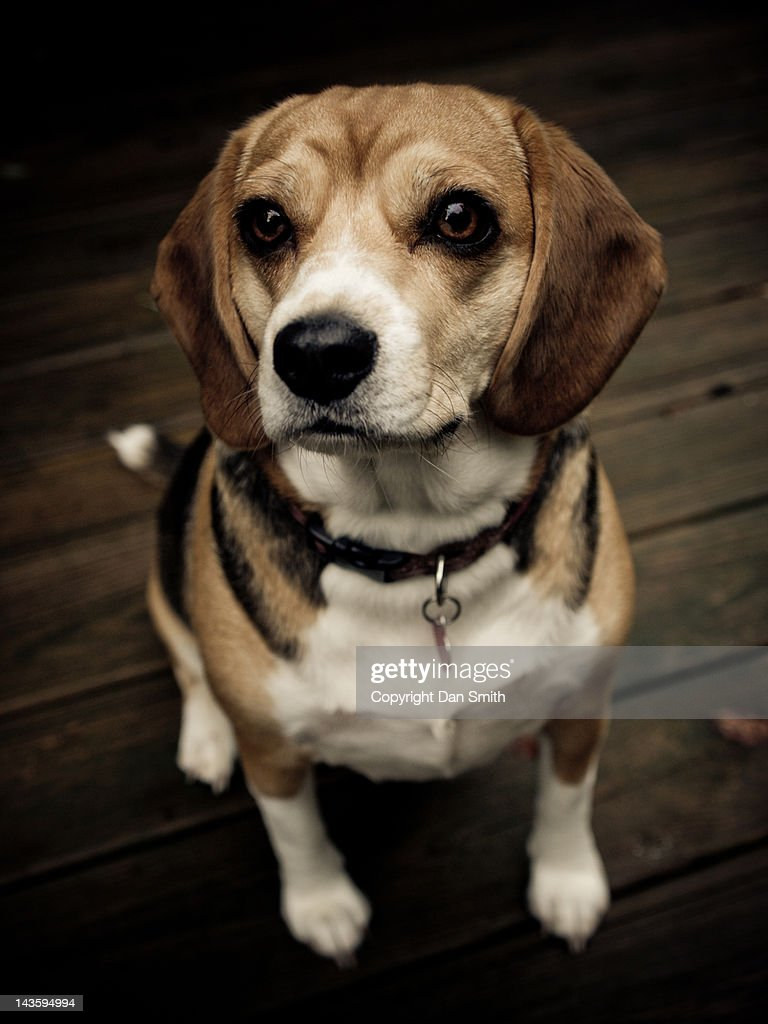dog: (105, 73, 669, 946)
